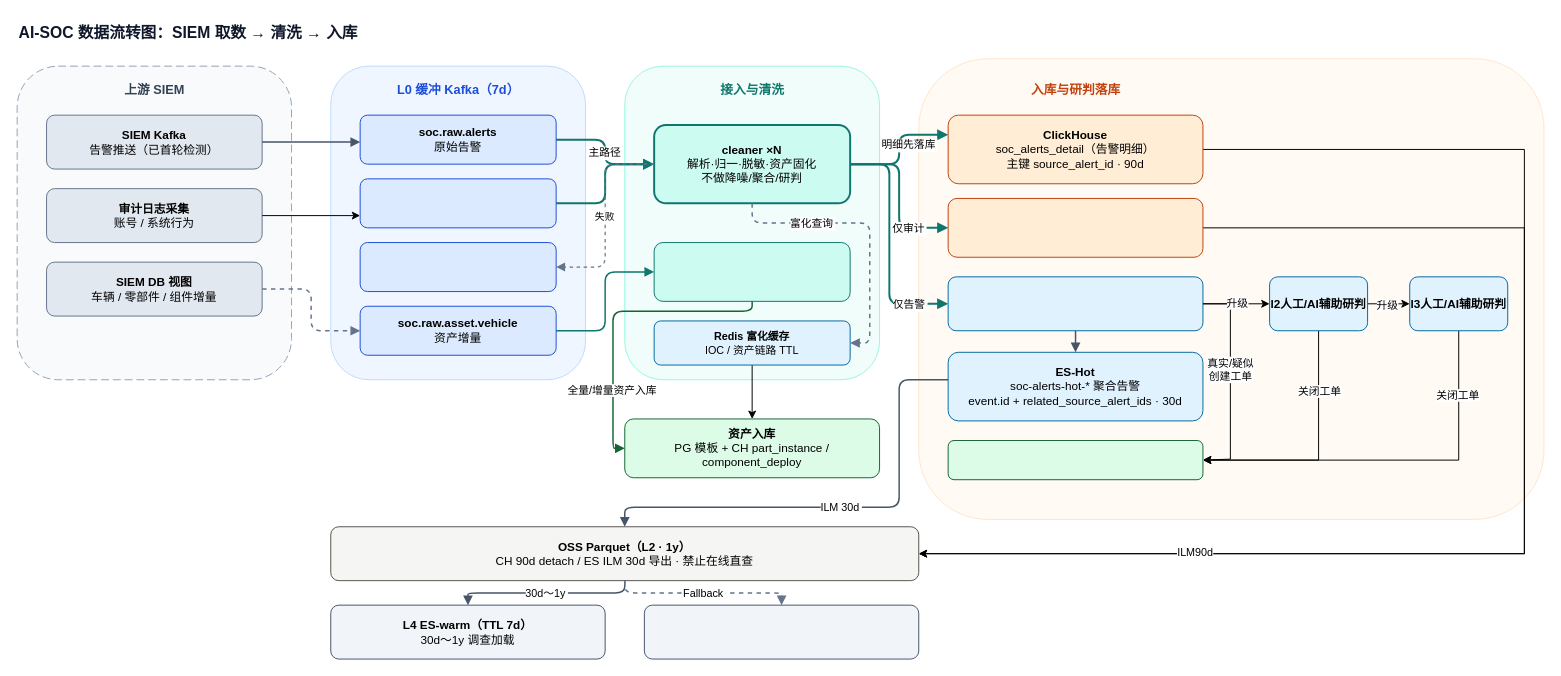
This 1561x676 diagram has some shape labels left out. The centre of each missing label's shape, as x and y in pixels:
>1y 回源 SIEM API/DB 本地不持久化: pixel 781 631
asset-sync ×1 资产增量同步: pixel 751 271
ClickHouse soc_audit_detail（审计明细） 不进 ES · 90d: pixel 1075 227
l1-agent ×N 去重→聚合→IOC→初判: pixel 1075 303
PostgreSQL soc_ticket / relation · 工单: pixel 1075 460
soc.dlq.logs 坏日志: pixel 457 267
soc.raw.audit 原始审计: pixel 457 203
